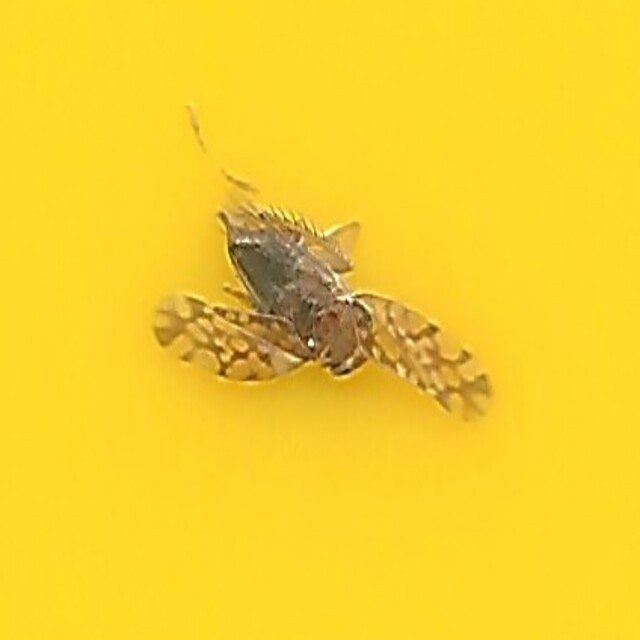Hemiptera: (151, 207, 489, 433)
